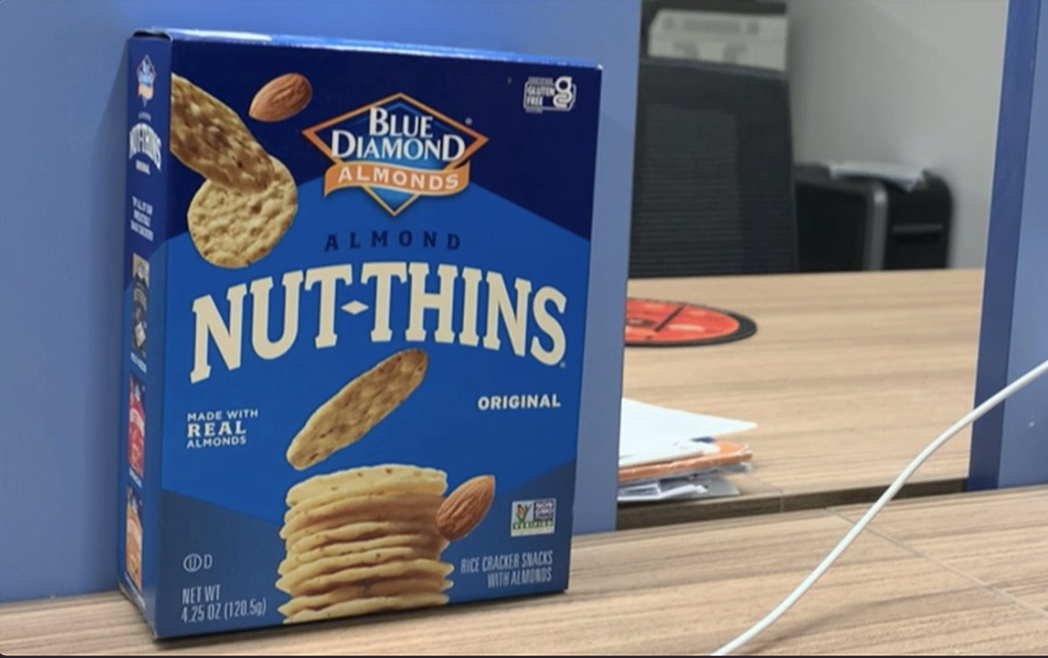crackers_150g: (171, 63, 574, 587)
